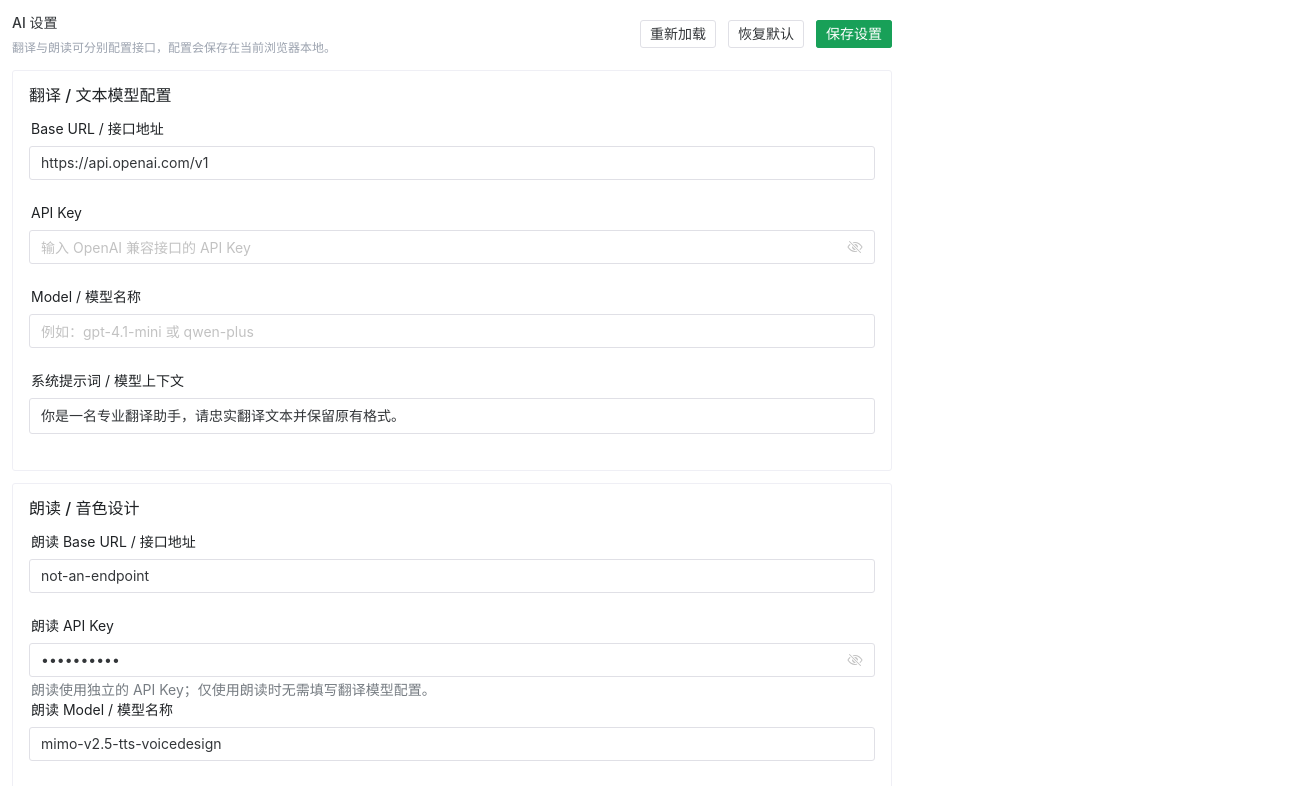
Scenario: AI settings read aloud configuration › rejects a supplied invalid speech endpoint before persisting settings
Click the button "保存设置". click: [854, 34]
box: [816, 20, 892, 48]
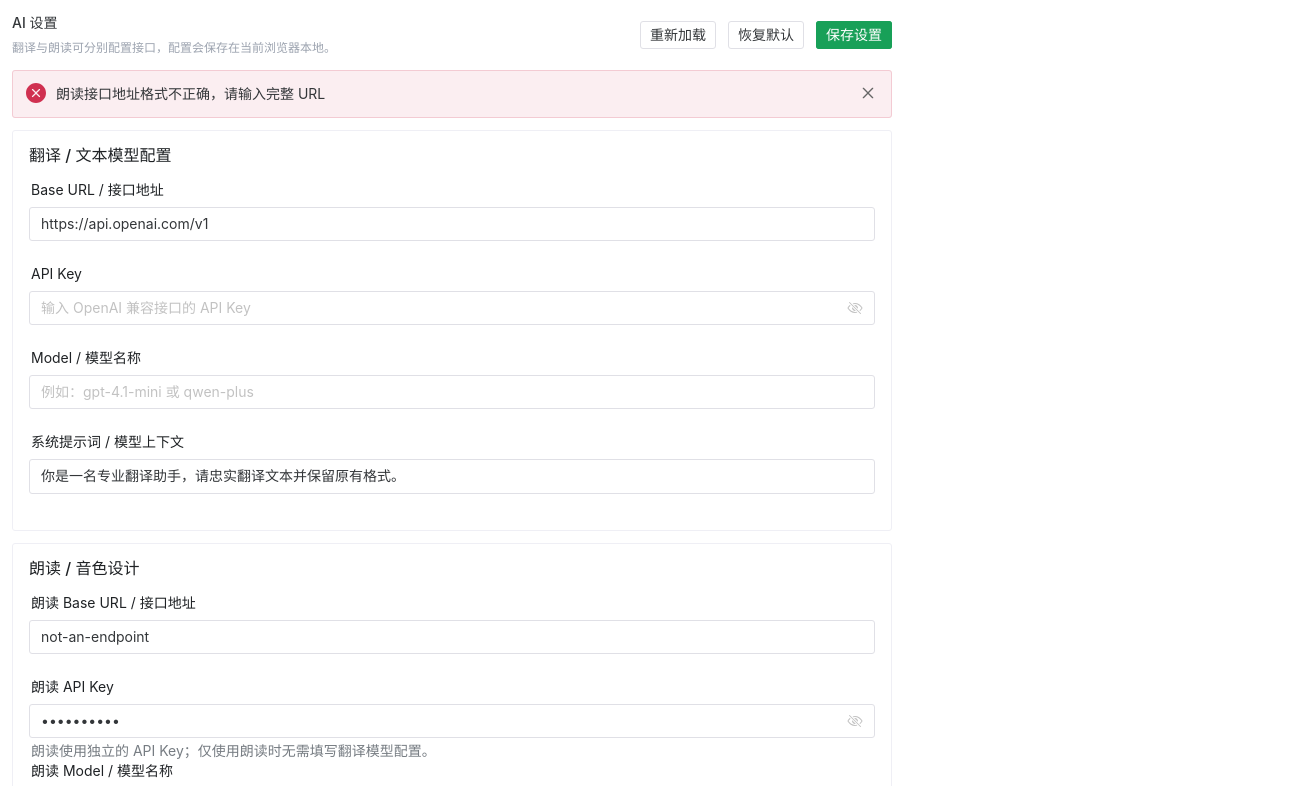
Check: the text "朗读接口地址格式不正确，请输入完整 URL" is shown, box [56, 85, 325, 102]
